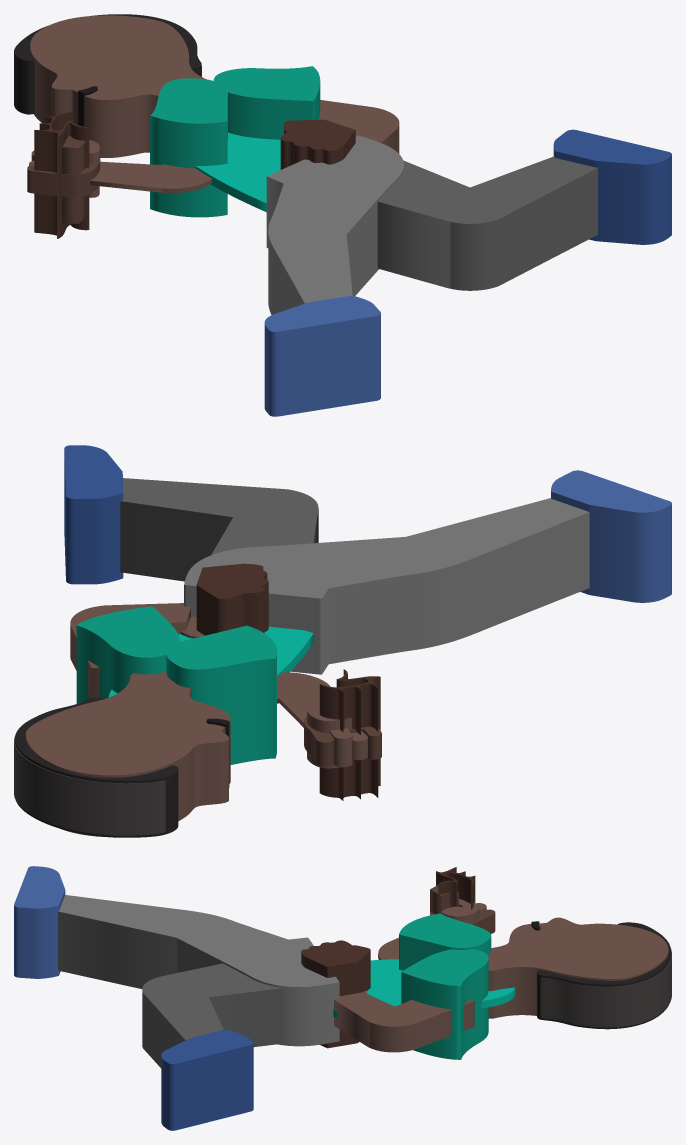
The model's file is emoji_u1f3c3_1f3ff_200d_2642.glb.
The picture shows the model from 3 angles, top to bottom: view 1: azimuth 30°, elevation 25°; view 2: azimuth 150°, elevation 25°; view 3: azimuth 270°, elevation 25°; orthographic projection. The views are drawn at different scales.
Parts seen in each view (by area): view 1: emoji_u1f3c3_1f3ff_200d_2642; view 2: emoji_u1f3c3_1f3ff_200d_2642; view 3: emoji_u1f3c3_1f3ff_200d_2642.
Boxes of the visible parts, <box> form: emoji_u1f3c3_1f3ff_200d_2642: <box>14,14,671,416</box>; emoji_u1f3c3_1f3ff_200d_2642: <box>14,445,671,837</box>; emoji_u1f3c3_1f3ff_200d_2642: <box>14,866,671,1130</box>.
Size of the model in its own units: 0.0228 by 0.0046 by 0.0322.
